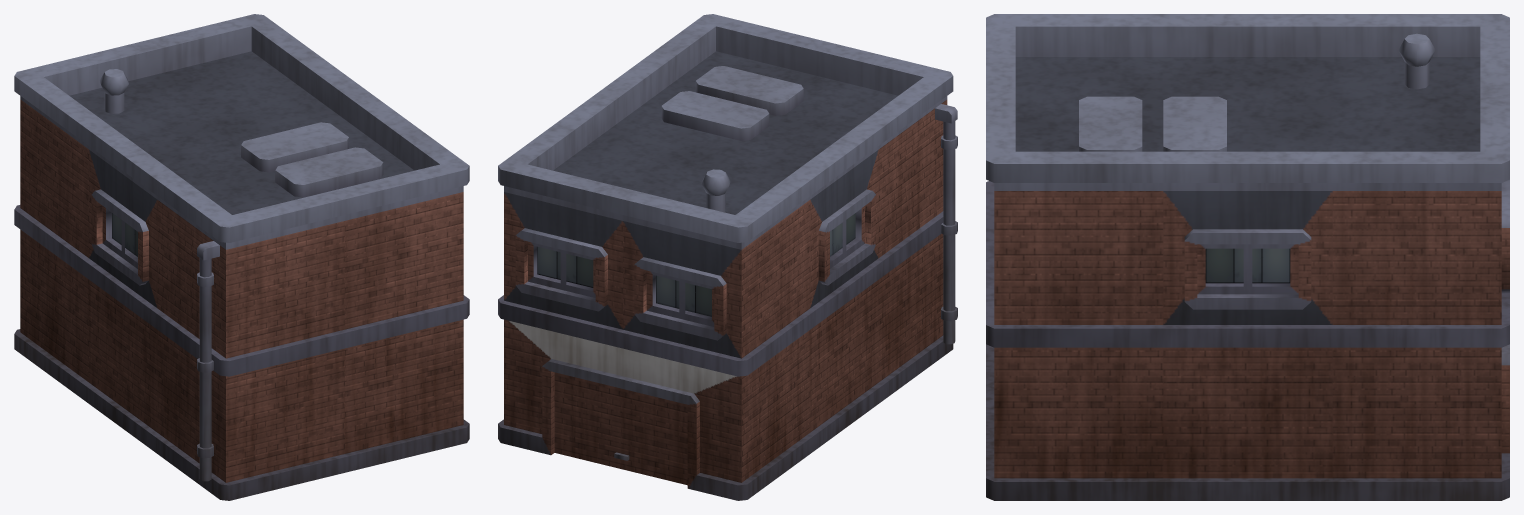
File: building-o-brown.glb
3 renders of one model, left to right at view 1: azimuth 30°, elevation 25°; view 2: azimuth 150°, elevation 25°; view 3: azimuth 270°, elevation 25°, orthographic. The views are drawn at different scales.
Visible parts, largest first — view 1: building-o; view 2: building-o; view 3: building-o.
Part boxes in pixels (x1=…): building-o: x1=14, y1=14, x2=469, y2=500; building-o: x1=498, y1=14, x2=957, y2=500; building-o: x1=986, y1=14, x2=1509, y2=500.
Size of the model in its own units: 0.8836 by 0.918 by 1.24.
1 material, 1 textured.
